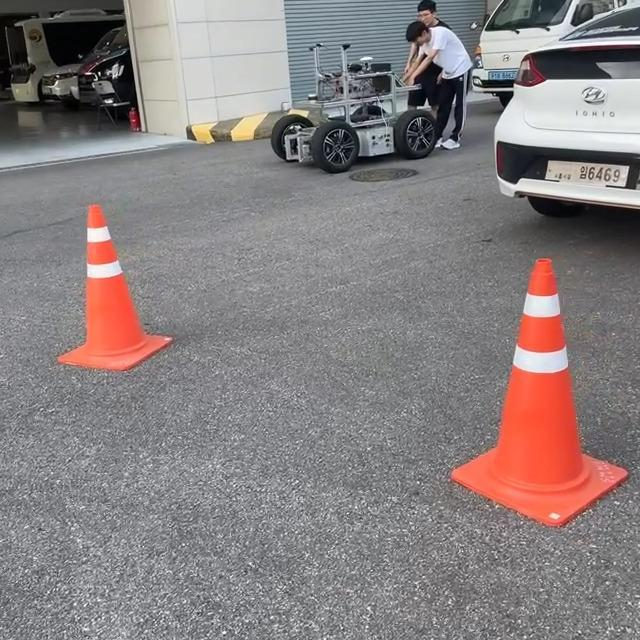fallen_object: (363, 197, 640, 566), (32, 162, 210, 438)
